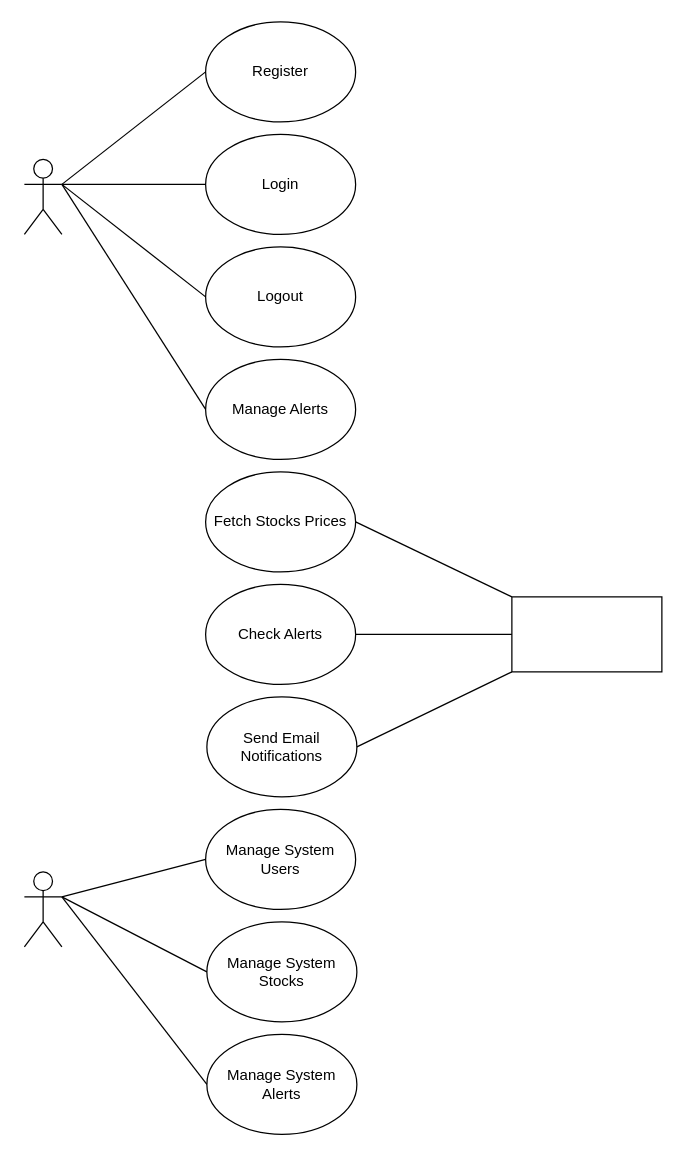
This 684x1156 diagram has some shape labels left out. The shapes that lost their labels are listed below. From the top down, each one's centre as x and y in pixels, then its label:
At (42,196): "User".
At (586,634): "System".
At (42,909): "Admin".
